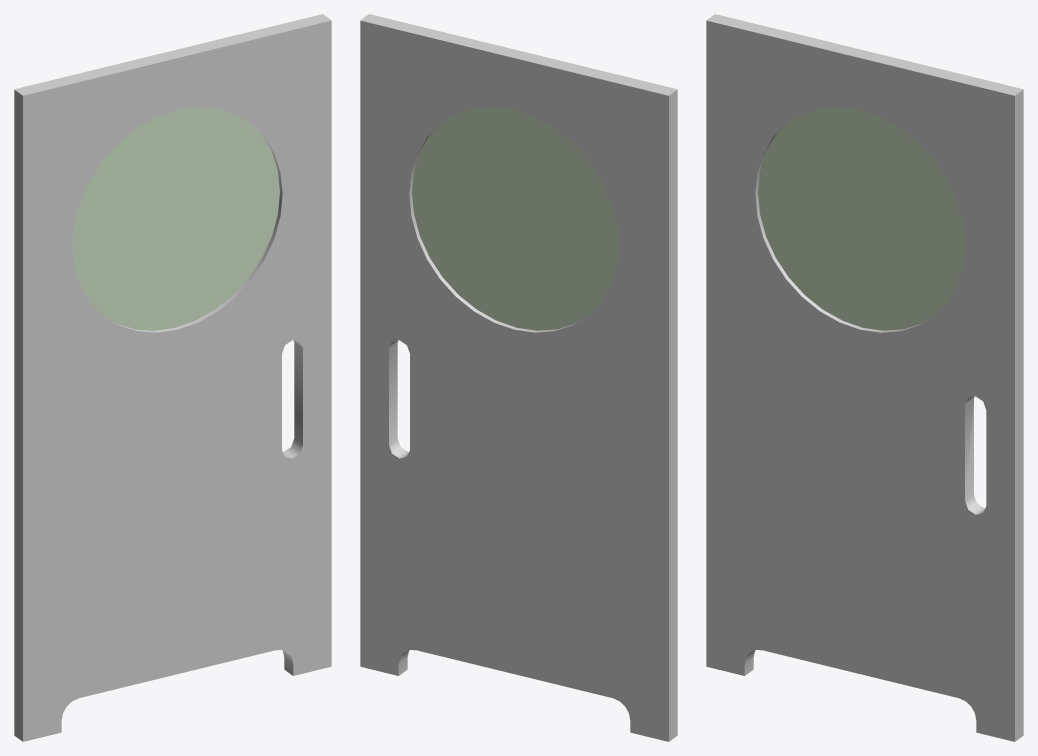
File: Door0.fbx
3 views of the same model, side by side, from view 1: azimuth 30°, elevation 25°; view 2: azimuth 150°, elevation 25°; view 3: azimuth 330°, elevation 25° (orthographic).
Visible parts, largest first — view 1: Door0_LOD0, Glass; view 2: Door0_LOD0, Glass; view 3: Door0_LOD0, Glass.
Boxes of the visible parts, x1=… form: Door0_LOD0: x1=14, y1=14, x2=331, y2=741; Glass: x1=72, y1=106, x2=279, y2=330; Door0_LOD0: x1=360, y1=14, x2=677, y2=741; Glass: x1=412, y1=106, x2=619, y2=330; Door0_LOD0: x1=706, y1=14, x2=1023, y2=741; Glass: x1=758, y1=106, x2=965, y2=330.
Size of what is drawn, in the model's own units: 1.4 by 2.8 by 0.07.
